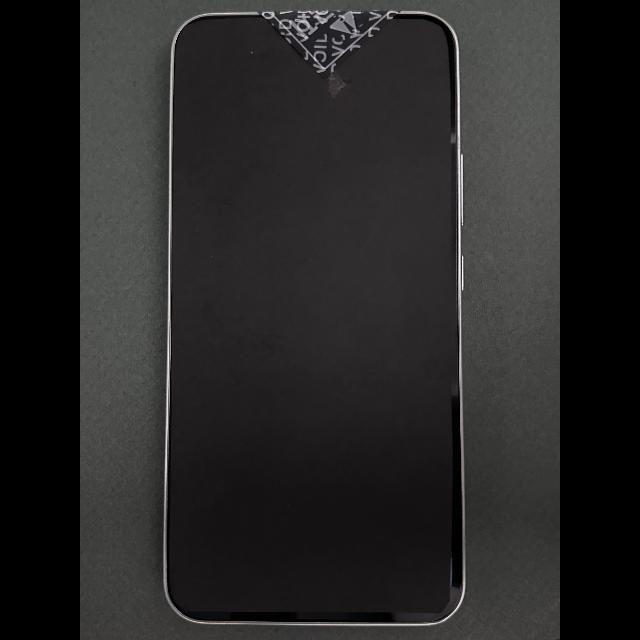phone: (163, 11, 466, 626)
sticker: (258, 11, 403, 78)
